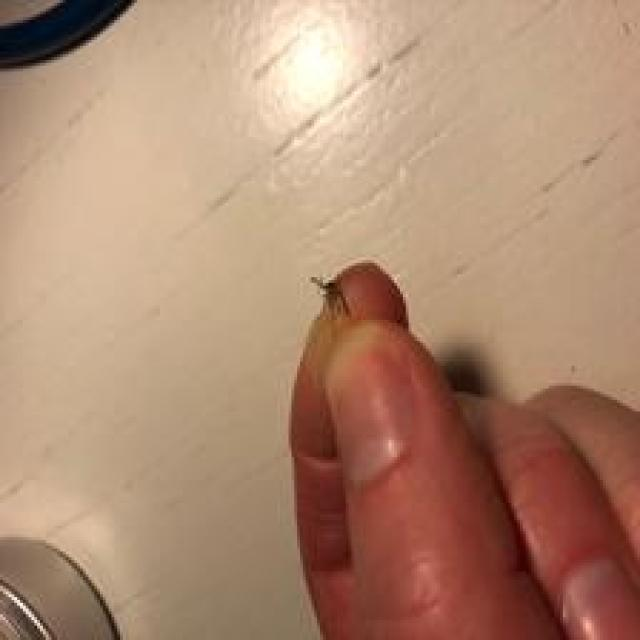Culex: (308, 273, 352, 321)
